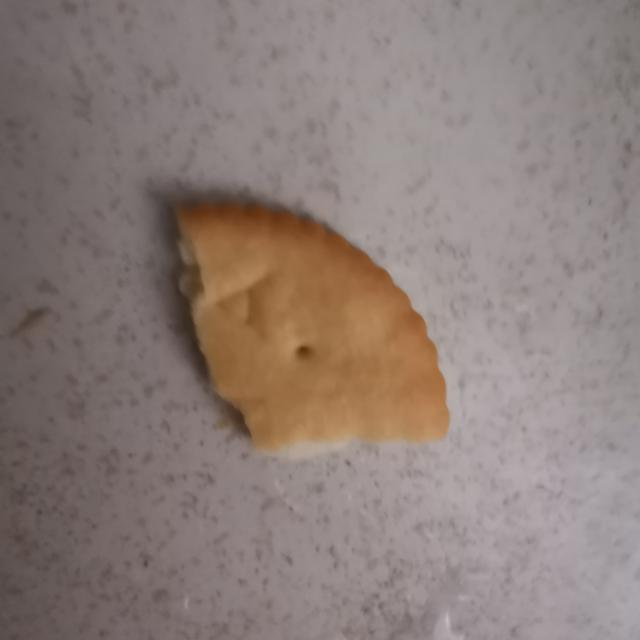Broken: (172, 198, 451, 458)
